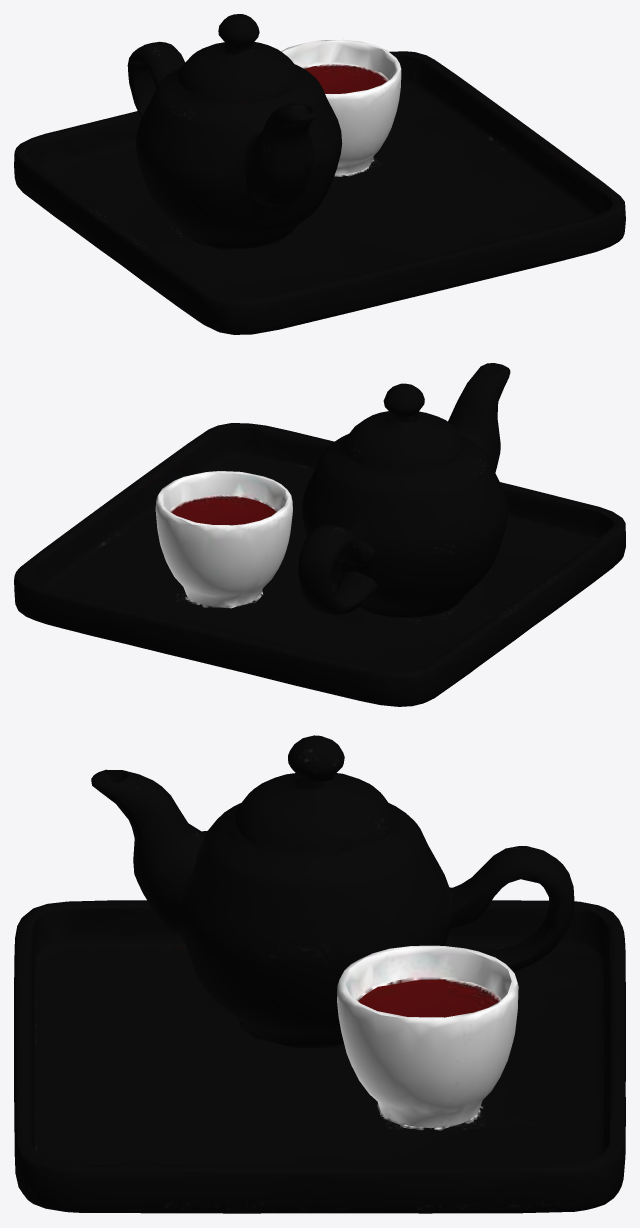
Rendered from teaset.glb.
3 views of the same model, one above another, from view 1: azimuth 30°, elevation 25°; view 2: azimuth 150°, elevation 25°; view 3: azimuth 270°, elevation 25° (orthographic). The views are drawn at different scales.
Parts seen in each view (by area): view 1: teaset; view 2: teaset; view 3: teaset.
Boxes of the visible parts, bbox=[...] form: teaset: bbox=[14, 14, 625, 334]; teaset: bbox=[14, 363, 625, 706]; teaset: bbox=[14, 735, 625, 1213].
Bounding box in the file's own units: 0.3229 × 0.16 × 0.3064.
1 material, 1 textured.
